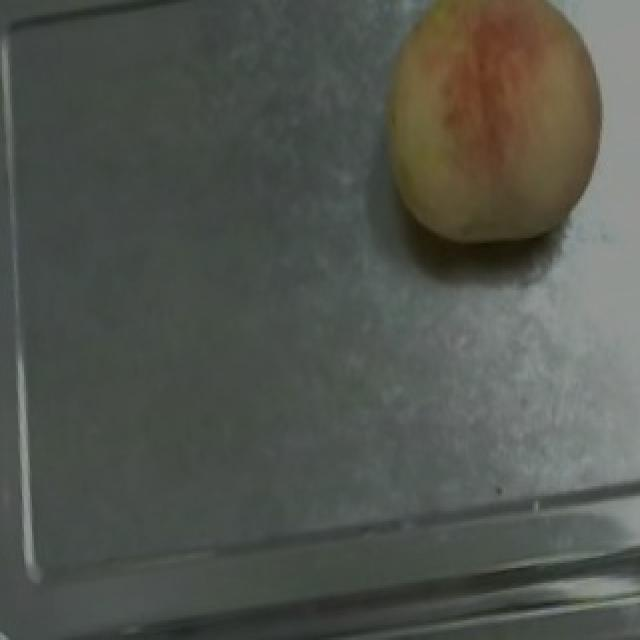Fruit: (350, 0, 630, 268)
